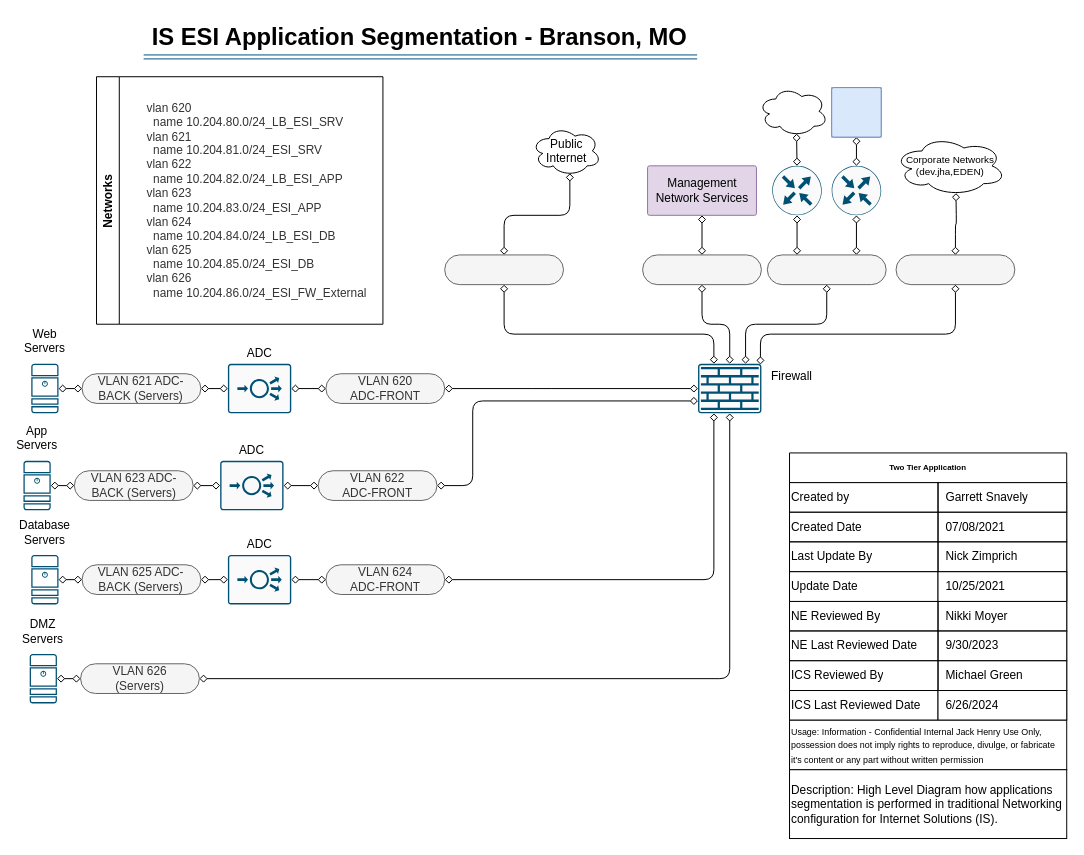
This 1084x855 diagram has some shape labels left out. Here are the shapes that lost their labels. From the top down, the centre of each, then its label:
point 792,111: jConnect
point 856,112: DR DC/Azure
point 504,269: VLAN 454 Internet
point 701,269: VLAN 337 MN Transport
point 826,269: VLAN 409 Private WAN
point 955,269: VLAN 490 Corporate Interconnect
